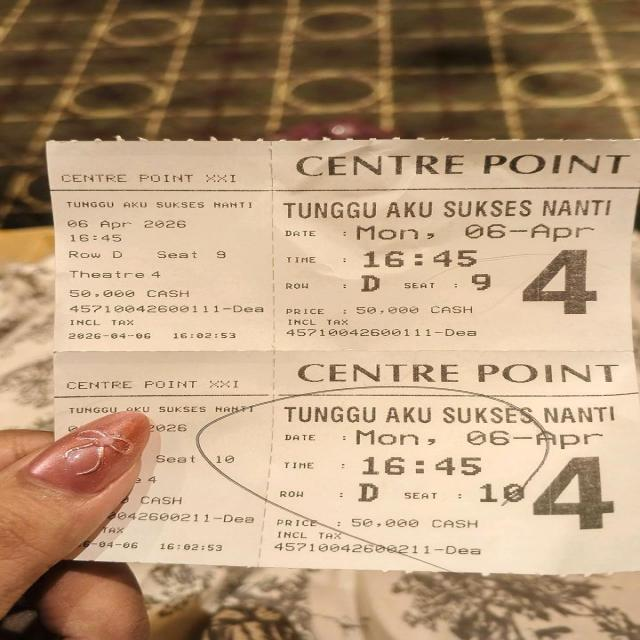date: (63, 216, 214, 232)
store: (286, 154, 638, 185), (58, 170, 256, 189)
total: (281, 304, 491, 316)
